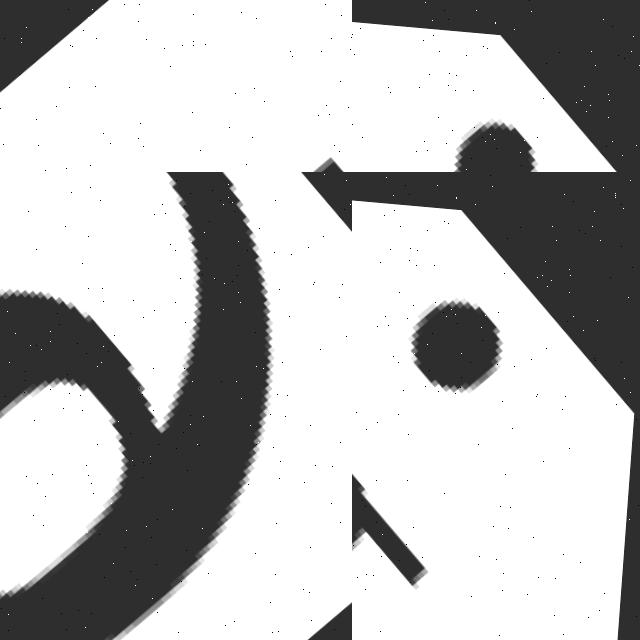6: (0, 172, 352, 640)
I: (352, 216, 625, 640), (352, 35, 640, 172)
J: (1, 32, 352, 172)
